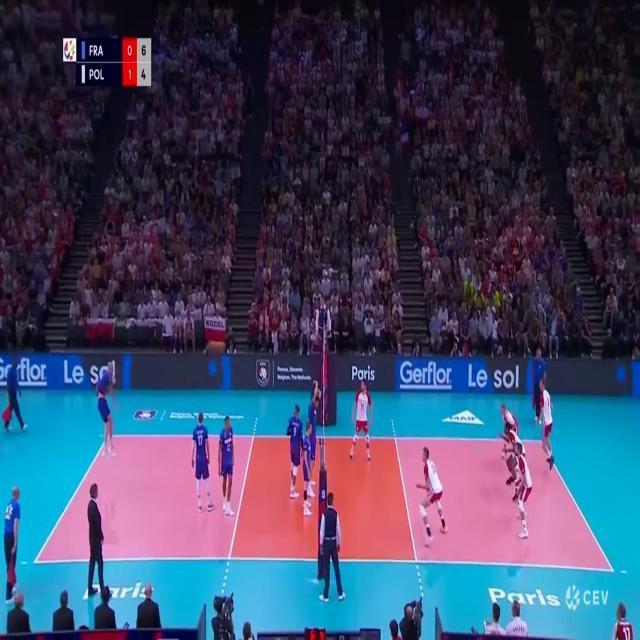volleyball: (208, 342, 226, 354)
